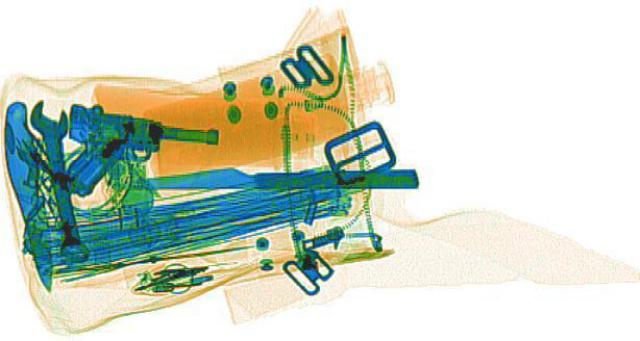Gun: (28, 99, 226, 208)
Knife: (0, 99, 56, 290), (121, 163, 419, 192)
Wrench: (26, 97, 92, 262)
